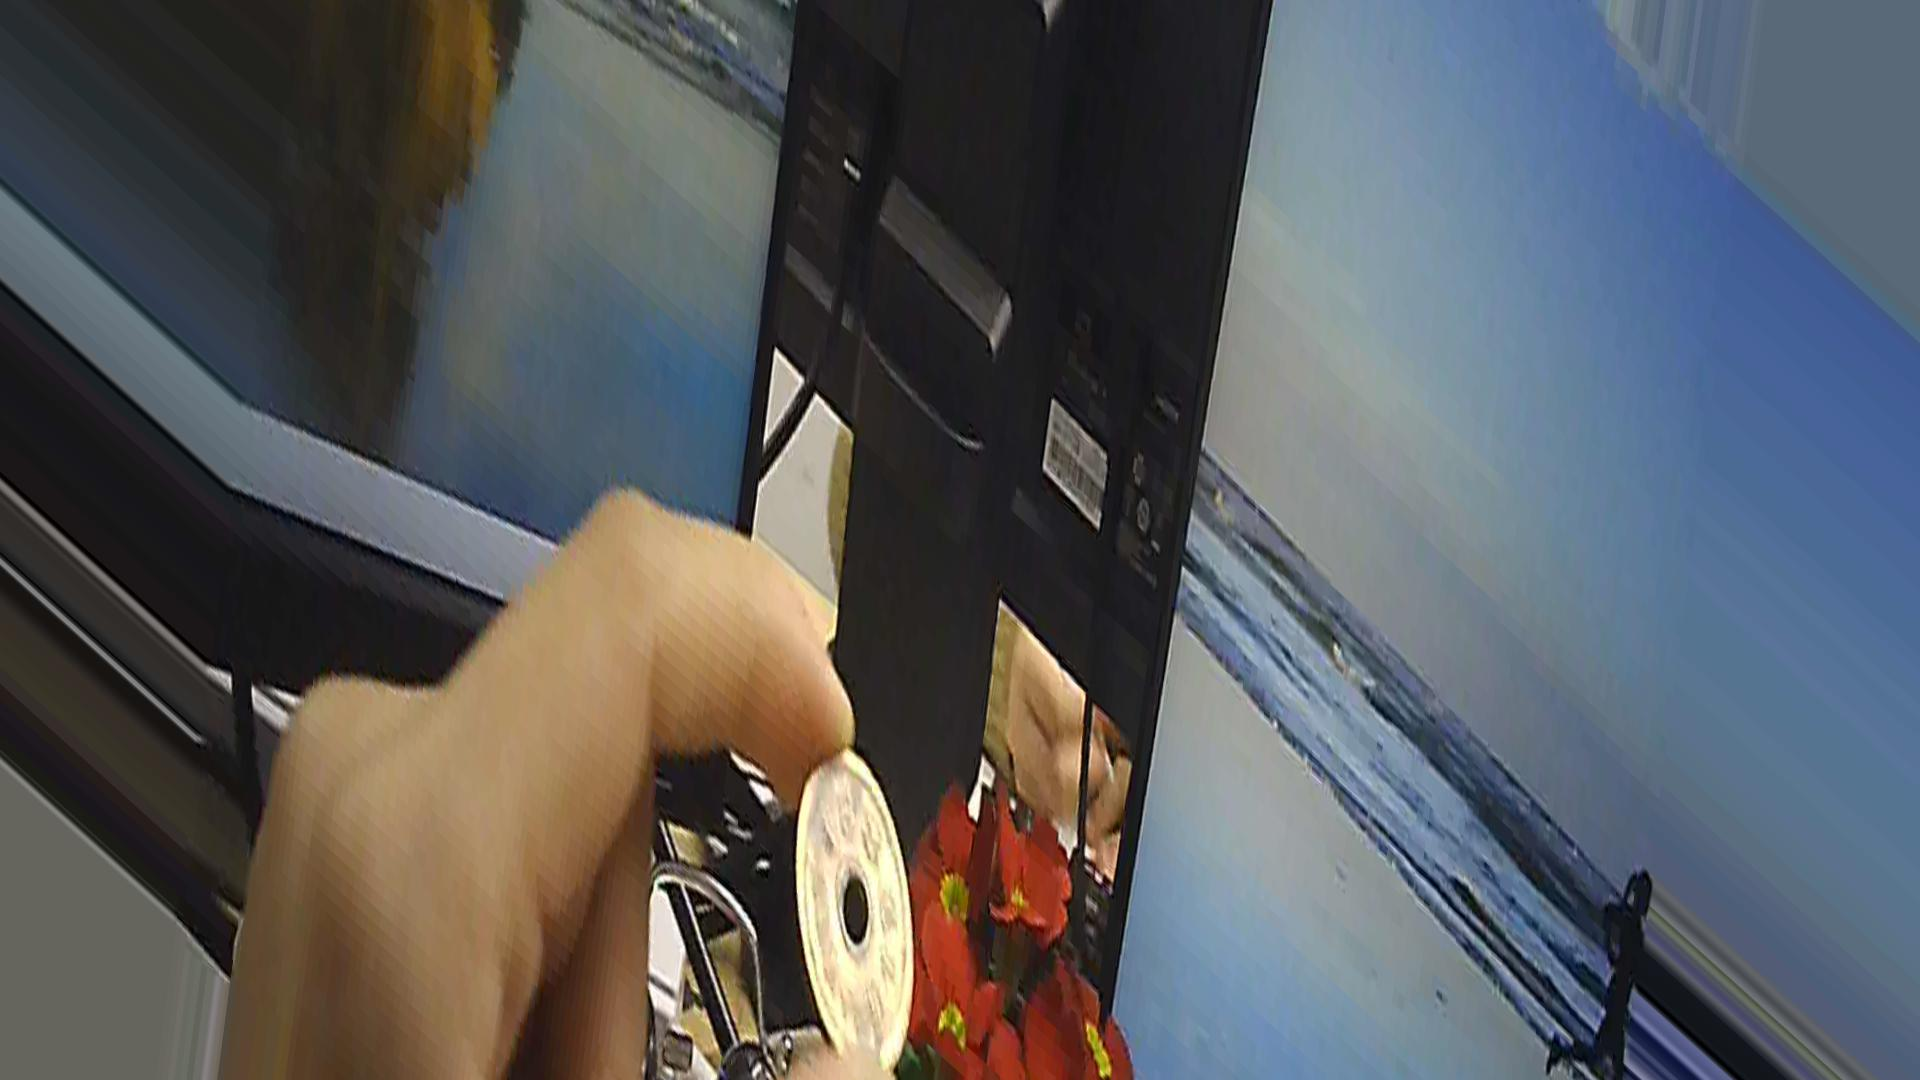5 Yen: (760, 738, 931, 1079)
